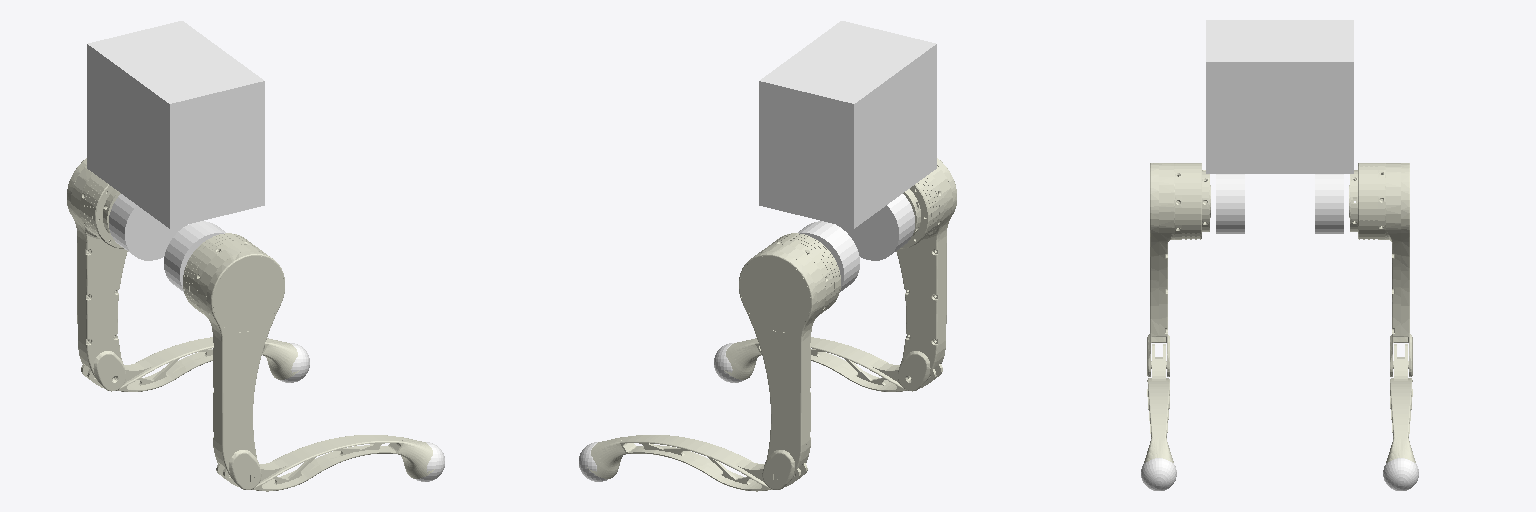
The robot description file, URDF, robot "point_foot":
<?xml version="1.0" ?>
<robot name="point_foot" xmlns:xacro="http://www.ros.org/wiki/xacro">
  <material name="black">
    <color rgba="0.0 0.0 0.0 1.0"/>
  </material>
  <material name="blue">
    <color rgba="0.0 0.0 0.8 1.0"/>
  </material>
  <material name="green">
    <color rgba="0.0 0.8 0.0 1.0"/>
  </material>
  <material name="grey">
    <color rgba="0.2 0.2 0.2 1.0"/>
  </material>
  <material name="silver">
    <color rgba="0.913725490196 0.913725490196 0.847058823529 1.0"/>
  </material>
  <material name="orange">
    <color rgba="0.12 0.15 0.2 1.0"/>
  </material>
  <material name="brown">
    <color rgba="0.870588235294 0.811764705882 0.764705882353 1.0"/>
  </material>
  <material name="red">
    <color rgba="0.8 0.0 0.0 1.0"/>
  </material>
  <material name="white">
    <color rgba="1.0 1.0 1.0 1.0"/>
  </material>
<link name="base_Link">
    <visual>
      <origin rpy="0 0 0" xyz="0 0 0.14"/>
      <geometry>
         <box size="0.12 0.18 0.15"/>
      </geometry>
      <material name="white"/>
    </visual>
    <!--<geometry>
       <mesh filename="../meshes/base_link.STL"/>
     </geometry> -->
    <collision>
      <origin rpy="0 0 0" xyz="0.03 0 0.14"/>
      <geometry>
        <box size="0.13 0.16 0.12"/>
      </geometry>
    </collision>
    <inertial>
      <!-- <origin rpy="0 0 0" xyz="0.03265 0.00208  0.06345"/> -->
      <origin rpy="0 0 0" xyz="0.03265 0.00208  0.06345"/>
      <mass value="5.6"/> 
      <!-- <inertia ixx="0.04275" ixy="0" ixz="0" iyy=" 0.063975" iyz="0" izz="0.03365"/> -->
      <!-- <inertia ixx="0.06388" ixy="0.00028" ixz="0.00564" iyy=" 0.06802" iyz="0.00101" izz="0.03926"/> -->
      <inertia ixx="0.04388" ixy="0.00028" ixz="0.00564" iyy=" 0.05802" iyz="0.00101" izz="0.04926"/>
      <!-- <inertia ixx="0.06582" ixy="−0.000363" ixz="0" iyy=" 0.06255" iyz="0.000989" izz="0.02758"/> -->
     
        </inertial>
  </link>
<!--
  <joint name="imu_joint" type="fixed">
        <origin rpy="0. 0. 0." xyz="0. 0. 0."/>
        <parent link="base_Link"/>
        <child link="imu"/>
    </joint>
  
      <link name="imu">
        <inertial>
            <mass value="0.01"/>
            <origin rpy="0 0 0" xyz="0 0 0"/>
            <inertia ixx="0.000001" ixy="0" ixz="0" iyy="0.000001" iyz="0" izz="0.000001"/>
        </inertial>
        <visual>
            <origin rpy="0 0 0" xyz="0 0 0"/>
            <geometry>
                <box size="0.015 0.015 0.004"/>
            </geometry>
        </visual>
        <material name="orange">
            <color rgba="255 108 10 255"/>
        </material>
    </link>  -->

  <!--*****************************L****************************************-->
      <link
            name="L_Abad_Link">
          <inertial>
      <origin
        xyz="0 0.0033685 0"
        rpy="0 0 0" />
      <mass
        value="0.84142" />
      <inertia
        ixx="0.00044078"
        ixy="-9.9392E-08"
        ixz="-3.6784E-07"
        iyy="0.00074812"
        iyz="-4.4651E-08"
        izz="0.00040238" />
    </inertial>
        <visual>   
            <origin
                    xyz="0 0 0"
                    rpy="1.57  0 0"/>
	     <geometry>
		  <cylinder length="0.035" radius="0.04"/>
	      </geometry>
            <material name="white"/>
        </visual>
        <collision>
            <origin rpy=" 1.57 0 0" xyz="0 0.0 0"/>
            <geometry>
                 <cylinder length="0.035" radius="0.04"/>
            </geometry>
        </collision> 
      </link>
    <joint
            name="L_abad_joint"
            type="revolute">
        <origin
                xyz="0 0.06 0"
                rpy="0 0 0"/>
        <parent
                link="base_Link"/>
        <child
                link="L_Abad_Link"/>
        <axis
                xyz="1 0 0"/>
        <limit effort="40.0" lower="-0.4" upper="0.4" velocity="30.0"/>
    </joint>

  <!--*****************************hip**************************************-->
  
  <link name="L_hip_Link">
    <visual>
           <origin rpy="0 0 0" xyz="0 0 0"/>
      <geometry>
        <mesh
          filename="../meshes/L_hip_Link.STL" />
      </geometry>
      <material name="silver"/>
    </visual>
    <collision>
      <origin rpy="0 0 0" xyz="0 0 -0.1"/>
      <geometry>
           <cylinder length="0.15" radius="0.02"/>
      </geometry>
    </collision>
    <inertial>
      <origin
        xyz="-0.0029051 -0.021376 -0.028346"
        rpy="0 0 0" />
      <mass
        value="1.0967" />
      <inertia
        ixx="0.0021496"
        ixy="1.1839E-06"
        ixz="-4.8995E-05"
        iyy="0.0026093"
        iyz="1.3229E-05"
        izz="0.00052605" />
    </inertial>
  </link>

  <joint name="L_hip_joint" type="revolute">
    <origin rpy="0 0 0" xyz="0 0.0875  0"/>
    <parent link="L_Abad_Link"/>
    <child link="L_hip_Link"/>
    <axis xyz="0 -1 0"/>
    <dynamics damping="0" friction="0"/>
    <limit effort="40.0" lower="-1.3" upper="1.3" velocity="30.0"/>
  </joint>

<link name="L_knee_Link">
    <visual>
      <origin rpy="0 0 0" xyz="0 0 0"/>
      <geometry>
        <mesh filename="../meshes/L_knee_Link.STL" scale="1 1 1"/>
      </geometry>
      <material name="silver"/>
    </visual>

    <collision>
      <origin rpy="0 -0.21 0" xyz="0.008 0 -0.06"/>
      <geometry>
      	<cylinder length="0.12" radius="0.012" />
        <!--<box size="0.2 0.016 0.016"/>-->
      </geometry>
    </collision>
    <inertial>
      <origin rpy="0 0 0" xyz="0.006435 0.0 -0.107388"/>
       <mass
        value="0.154" />
      <inertia
        ixx="0.00108"
        ixy="3.4E-07"
        ixz="1.72E-05"
        iyy="0.0011"
        iyz="8.28E-06"
        izz="3.29E-05" />
    </inertial>
  </link>
 <joint name="L_knee_joint" type="revolute">
    <origin rpy="0 0 0" xyz="0 0 -0.22"/>
    <parent link="L_hip_Link"/>
    <child link="L_knee_Link"/>
    <axis xyz="0 -1 0"/>
    <dynamics damping="0" friction="0"/>
    <limit effort="40" lower="0.5" upper="2.3" velocity="30"/>
  </joint>

<link
    name="L_kneeflower">
    <collision>
      <origin rpy="0 0 0" xyz="0 0 0" />
      <geometry>
        <cylinder length="0.07" radius="0.011" />
      </geometry>
    </collision>
  </link>
  <joint
    name="L_kneeflower_joint"
    type="fixed">
    <origin
      xyz="0.020 0 -0.152"
      rpy="0 0.05 0" />
    <parent
      link="L_knee_Link" />
    <child
      link="L_kneeflower" />
    <axis
      xyz="0 0 0" />
  </joint>
  <link
    name="L_kneeflower1">
    <collision>
      <origin rpy="0 0 0" xyz="0 0 0" />
      <geometry>
        <cylinder length="0.038" radius="0.012" />
      </geometry>
    </collision>
  </link>
  <joint
    name="L_kneeflower1_joint"
    type="fixed">
    <origin
      xyz="-0.006 0 -0.05"
      rpy="0 0.3 0" />
    <parent
      link="L_kneeflower" />
    <child
      link="L_kneeflower1" />
    <axis
      xyz="0 0 0" />
  </joint>
  <link
    name="L_foot">
    <inertial>
      <origin
        xyz="-0.039445 -3.2459E-08 -0.17051"
        rpy="0 0 0" />
      <mass
        value="0.010414" />
      <inertia
        ixx="2.0696E-05"
        ixy="-4.0041E-12"
        ixz="4.8649E-07"
        iyy="1.6231E-06"
        iyz="1.0208E-11"
        izz="2.1532E-05" />
    </inertial>
    <visual>
      <origin
        xyz="0 0 0"
        rpy="0 0 0" />
      <geometry>
        <sphere radius="0.022" />
      </geometry>
      <material
        name="">
        <color
          rgba="1 1 1 1" />
      </material>
    </visual>
    <collision>
      <origin rpy="0 0 0" xyz="0 0 0" />
      <geometry>
        <sphere radius="0.022" />
      </geometry>
    </collision>
  </link>
  <joint
    name="L_foot_joint"
    type="fixed" dont_collapse="true">
    <origin
      xyz="0.0 0 -0.232"
      rpy="0 0 0" />
    <parent
      link="L_knee_Link" />
    <child
      link="L_foot" />
    <axis
      xyz="0 0 0" />
  </joint>


  <!--*****************************right leg**************************************-->
 
     <link
            name="R_Abad_Link">
       <inertial>
      <origin
        xyz="0 -0.0033685 0"
        rpy="0 0 0" />
      <mass
        value="0.84142" />
      <inertia
        ixx="0.00044085"
        ixy="6.4555E-07"
        ixz="-2.9232E-07"
        iyy="0.00074812"
        iyz="9.7511E-08"
        izz="0.0004023" />
    </inertial>
        <visual>   
            <origin
                    xyz="0 0 0"
                    rpy="1.57  0 0"/>
	     <geometry>
	 	    <cylinder length="0.035" radius="0.04"/>
	      </geometry>
            <material name="white"/>
        </visual>
        <collision>
            <origin rpy=" 1.57 0 0" xyz="0 0.0 0"/>
            <geometry>
                 <cylinder length="0.035" radius="0.04"/>
            </geometry>
        </collision> 
      </link>
    <joint
            name="R_abad_joint"
            type="revolute">
        <origin
                xyz="0 -0.06 0"
                rpy="0 0 0"/>
        <parent
                link="base_Link"/>
        <child
                link="R_Abad_Link"/>
        <axis
                xyz="1 0 0"/>
        <limit effort="40.0" lower="-0.4" upper="0.4" velocity="30.0"/>
    </joint>

  <!--*****************************hip**************************************-->

  <link name="R_hip_Link">
    <visual>
           <origin rpy="0 0 0" xyz="0 0 0"/>
      <geometry>
         <mesh
          filename="../meshes/R_hip_Link.STL" />
      </geometry>
      <material name="silver"/>
    </visual>
   <collision>
      <origin rpy="0 0 0" xyz="0 0 -0.1"/>
      <geometry>
         <cylinder length="0.15" radius="0.02"/>
 <!--<box size="0.15 0.03 0.04"/>-->
      </geometry>
    </collision> 
    <inertial>
      <origin
        xyz="-0.0029051 0.021376 -0.028346"
        rpy="0 0 0" />
       <mass
        value="1.0967" />
      <inertia
        ixx="0.0021496"
        ixy="1.1839E-06"
        ixz="-4.8995E-05"
        iyy="0.0026093"
        iyz="1.3229E-05"
        izz="0.00052605" />
    </inertial>
  </link>

  <joint name="R_hip_joint" type="revolute">
    <origin rpy="0 0 0" xyz="0 -0.0875  0"/>
    <parent link="R_Abad_Link"/>
    <child link="R_hip_Link"/>
    <axis xyz="0 -1 0"/>
    <dynamics damping="0" friction="0"/>
    <limit effort="40" lower="-1.3" upper="1.3" velocity="30"/>
  </joint>


  <!--*****************************RF***thigh*************************************-->
<link name="R_knee_Link">
    <visual>
      <origin rpy="0 0 0" xyz="0 0 0"/>
      <geometry>
        <mesh filename="../meshes/R_knee_Link.STL" scale="1 1 1"/>
      </geometry>
      <material name="silver"/>
    </visual>

    <collision>
      <origin rpy="0 -0.21 0" xyz="0.008 0 -0.06"/>
      <geometry>
      	<cylinder length="0.12" radius="0.012" />
        <!--<box size="0.2 0.016 0.016"/>-->
      </geometry>
    </collision>
    <inertial>
      <origin rpy="0 0 0" xyz="0.006435 0.0 -0.107388"/>
       <mass
        value="0.154" />
      <inertia
        ixx="0.00108"
        ixy="3.4E-07"
        ixz="1.72E-05"
        iyy="0.0011"
        iyz="8.28E-06"
        izz="3.29E-05" />
    </inertial>
  </link>
 <joint name="R_knee_joint" type="revolute">
    <origin rpy="0 0 0" xyz="0 0 -0.22"/>
    <parent link="R_hip_Link"/>
    <child link="R_knee_Link"/>
    <axis xyz="0 -1 0"/>
    <dynamics damping="0" friction="0"/>
    <limit effort="40" lower="0.5" upper="2.3" velocity="30"/>
  </joint>

<link
    name="R_kneeflower">
    <collision>
      <origin rpy="0 0 0" xyz="0 0 0" />
      <geometry>
        <cylinder length="0.07" radius="0.011" />
      </geometry>
    </collision>
  </link>
  <joint
    name="R_kneeflower_joint"
    type="fixed">
    <origin
      xyz="0.020 0 -0.152"
      rpy="0 0.05 0" />
    <parent
      link="R_knee_Link" />
    <child
      link="R_kneeflower" />
    <axis
      xyz="0 0 0" />
  </joint>
  <link
    name="R_kneeflower1">
    <collision>
      <origin rpy="0 0 0" xyz="0 0 0" />
      <geometry>
        <cylinder length="0.038" radius="0.012" />
      </geometry>
    </collision>
  </link>
  <joint
    name="R_kneeflower1_joint"
    type="fixed">
    <origin
      xyz="-0.006 0 -0.05"
      rpy="0 0.3 0" />
    <parent
      link="R_kneeflower" />
    <child
      link="R_kneeflower1" />
    <axis
      xyz="0 0 0" />
  </joint>
  <link
    name="R_foot">
     <inertial>
      <origin
        xyz="-0.039445 -8.832E-09 -0.17051"
        rpy="0 0 0" />
      <mass
        value="0.010414" />
      <inertia
        ixx="2.0696E-05"
        ixy="-4.0041E-12"
        ixz="4.8649E-07"
        iyy="1.6231E-06"
        iyz="1.0208E-11"
        izz="2.1532E-05" />
    </inertial>
    <visual>
      <origin
        xyz="0 0 0"
        rpy="0 0 0" />
      <geometry>
        <sphere radius="0.022" />
      </geometry>
      <material
        name="">
        <color
          rgba="1 1 1 1" />
      </material>
    </visual>
    <collision>
      <origin rpy="0 0 0" xyz="0 0 0" />
      <geometry>
        <sphere radius="0.022" />
      </geometry>
    </collision>
  </link>
  <joint
    name="R_foot_joint"
    type="fixed" dont_collapse="true">
    <origin
      xyz="0.0 0 -0.232"
      rpy="0 0 0" />
    <parent
      link="R_knee_Link" />
    <child
      link="R_foot" />
    <axis
      xyz="0 0 0" />
  </joint>
</robot>

--- What the picture shows (computed from the rendered views, not written in the file) ---
The picture shows the robot from 3 angles, left to right: view 1: azimuth 30°, elevation 25°; view 2: azimuth 150°, elevation 25°; view 3: azimuth 270°, elevation 25°; orthographic projection.
Robot: point_foot — 13 links, 12 joints (6 revolute, 6 fixed); root link base_Link; default pose: all joints at 0 but 2 set to mid-range because 0 is outside their limits (L_knee_joint = 1.4, R_knee_joint = 1.4).
Links seen in each view (by area): view 1: base_Link, R_hip_Link, L_hip_Link, R_knee_Link, L_knee_Link, L_Abad_Link, R_Abad_Link; view 2: base_Link, L_hip_Link, R_hip_Link, L_knee_Link, R_knee_Link, R_Abad_Link, L_Abad_Link; view 3: base_Link, R_hip_Link, L_hip_Link, L_knee_Link, R_knee_Link, L_Abad_Link, R_Abad_Link, L_foot, R_foot.
Link boxes in pixels (x1=…): base_Link: x1=87, y1=21, x2=264, y2=228; R_hip_Link: x1=183, y1=233, x2=284, y2=489; L_hip_Link: x1=67, y1=158, x2=127, y2=391; R_knee_Link: x1=216, y1=435, x2=434, y2=491; L_knee_Link: x1=81, y1=337, x2=299, y2=391; L_Abad_Link: x1=109, y1=194, x2=186, y2=260; R_Abad_Link: x1=164, y1=221, x2=225, y2=291; base_Link: x1=759, y1=21, x2=936, y2=228; L_hip_Link: x1=739, y1=233, x2=840, y2=489; R_hip_Link: x1=896, y1=158, x2=956, y2=391; L_knee_Link: x1=587, y1=435, x2=807, y2=491; R_knee_Link: x1=724, y1=337, x2=942, y2=391; R_Abad_Link: x1=837, y1=194, x2=914, y2=260; L_Abad_Link: x1=798, y1=221, x2=859, y2=291; base_Link: x1=1206, y1=20, x2=1353, y2=173; R_hip_Link: x1=1147, y1=163, x2=1210, y2=376; L_hip_Link: x1=1349, y1=163, x2=1412, y2=376; L_knee_Link: x1=1386, y1=344, x2=1415, y2=462; R_knee_Link: x1=1144, y1=344, x2=1173, y2=462; L_Abad_Link: x1=1315, y1=174, x2=1343, y2=233; R_Abad_Link: x1=1216, y1=174, x2=1244, y2=233; L_foot: x1=1383, y1=458, x2=1418, y2=490; R_foot: x1=1141, y1=458, x2=1176, y2=490.
Size in the robot's own frame: 0.3106 by 0.339 by 0.4964 metres.
4 mesh visuals loaded from 4 distinct referenced files (4 binary STL).
